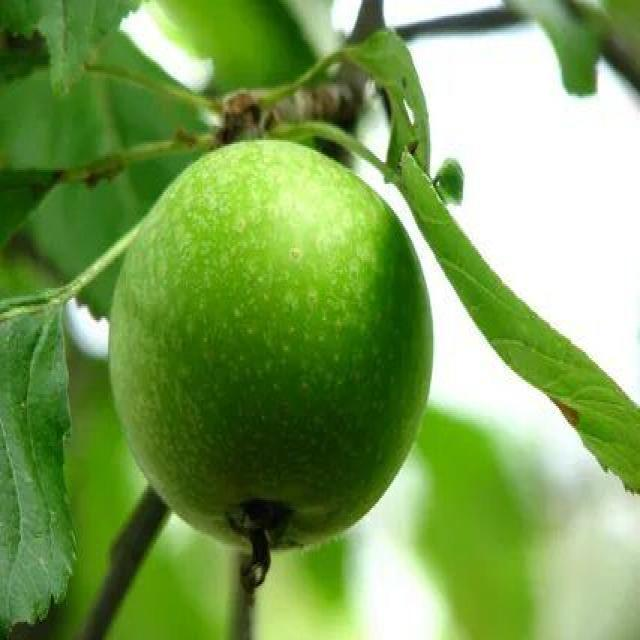Fresh Apple: (100, 138, 433, 550)
